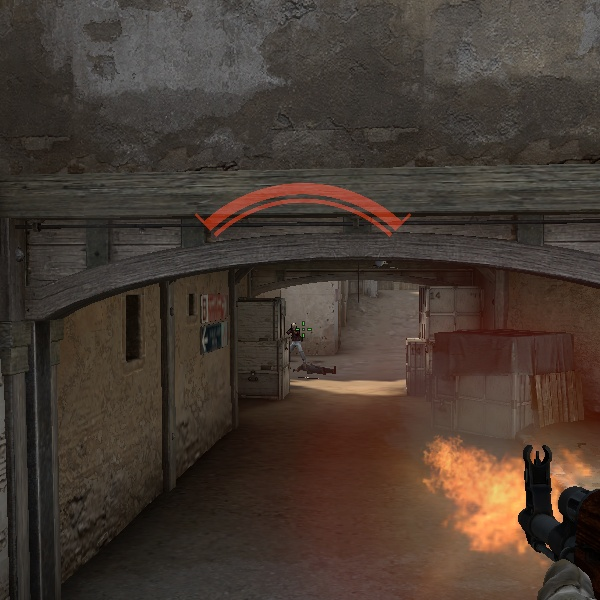t_body: (282, 319, 306, 368)
t_head: (288, 320, 300, 332)
